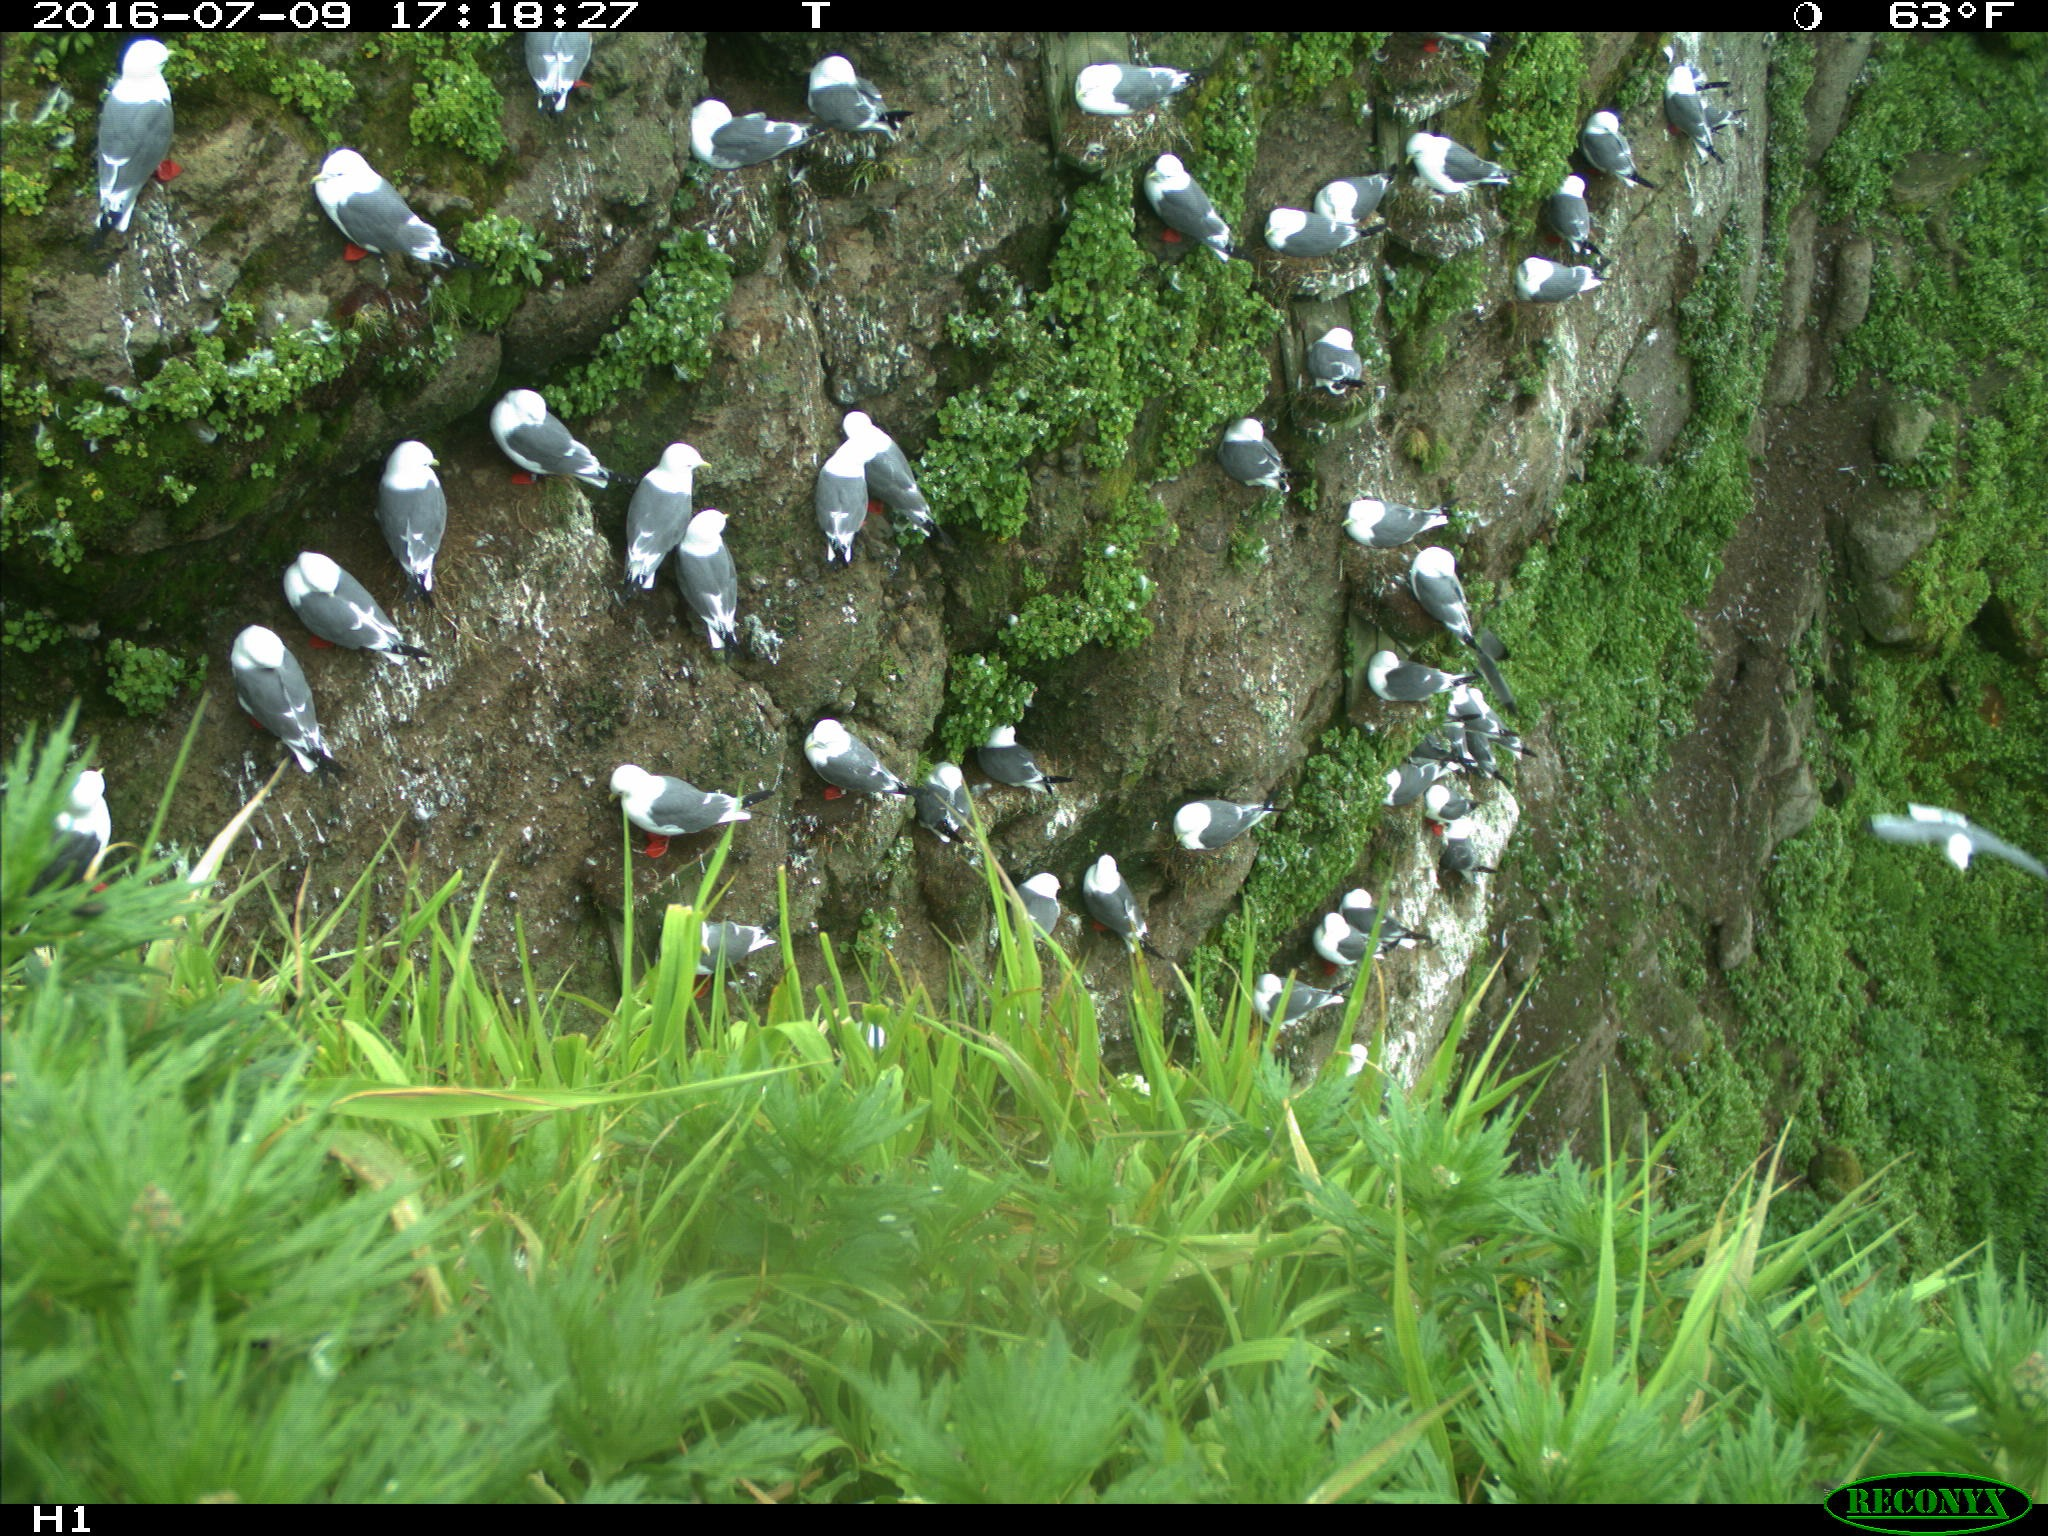Kittiwake: (289, 89, 443, 295), (277, 520, 445, 687), (334, 444, 518, 566), (77, 31, 189, 231), (837, 390, 971, 552), (185, 561, 313, 724), (24, 762, 182, 892), (656, 466, 751, 679), (477, 358, 587, 542), (605, 436, 716, 595), (780, 700, 889, 855), (597, 750, 753, 857), (801, 403, 895, 570), (1393, 103, 1517, 227), (1122, 140, 1242, 269), (780, 53, 914, 168), (1400, 523, 1526, 637), (682, 87, 818, 189), (650, 904, 800, 992), (1200, 399, 1313, 516), (1558, 95, 1675, 207), (963, 687, 1061, 818), (1053, 48, 1201, 132), (895, 737, 980, 870), (1543, 166, 1658, 265), (1229, 958, 1358, 1046), (1243, 189, 1371, 274), (1650, 56, 1742, 174), (1150, 786, 1284, 865), (1334, 479, 1434, 582), (506, 24, 610, 123), (1500, 240, 1629, 316), (1285, 313, 1384, 411), (1063, 855, 1137, 984), (1292, 897, 1400, 978), (1300, 150, 1405, 231), (1335, 866, 1429, 957), (1351, 644, 1467, 716), (992, 854, 1069, 958), (1335, 734, 1442, 805), (1409, 771, 1509, 841)
